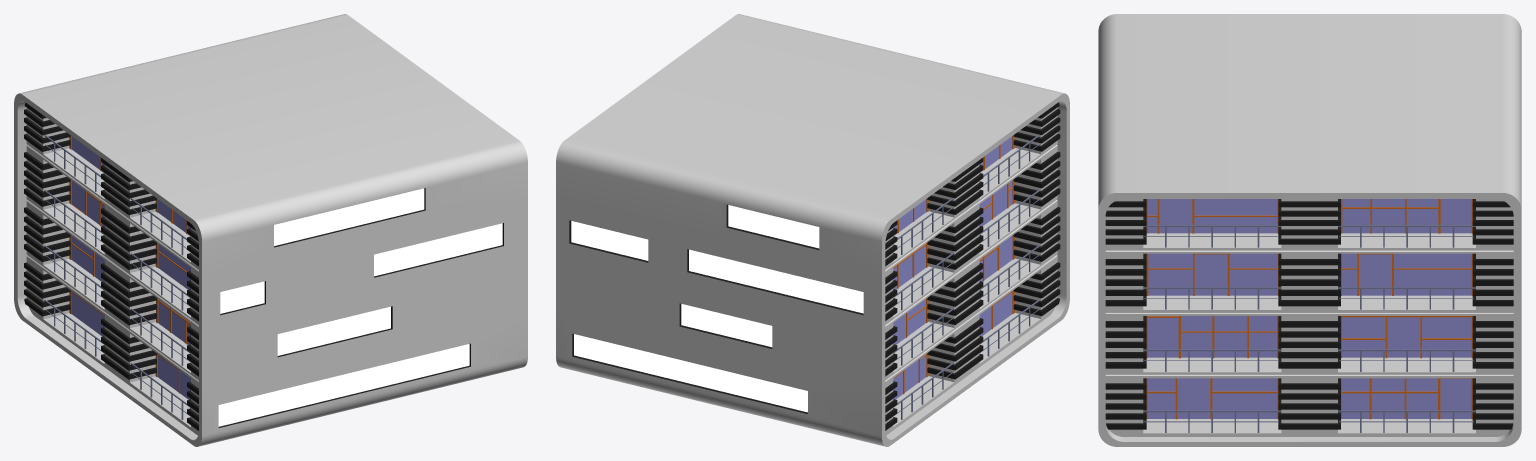
Rendered from SM_B_i1_floor1.fbx.
3 renders of one model, left to right at view 1: azimuth 30°, elevation 25°; view 2: azimuth 150°, elevation 25°; view 3: azimuth 270°, elevation 25°, orthographic. The views are drawn at different scales.
Parts seen in each view (by area): view 1: Bil2_floor1.fbx; view 2: Bil2_floor1.fbx; view 3: Bil2_floor1.fbx.
Part boxes in pixels (left/top/right/bottom): Bil2_floor1.fbx: left=14, top=14, right=527, bottom=446; Bil2_floor1.fbx: left=556, top=14, right=1069, bottom=446; Bil2_floor1.fbx: left=1098, top=14, right=1521, bottom=446.
Bounding box in the file's own units: 2000 × 1325 × 2000.
